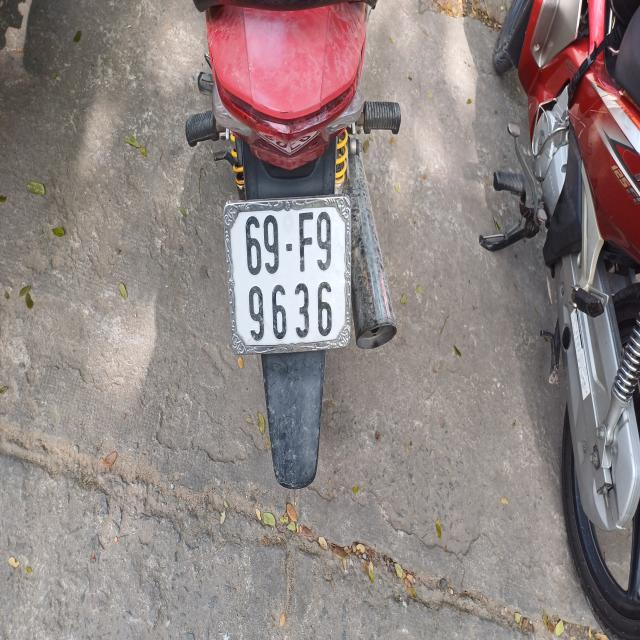3: (294, 282, 310, 340)
6: (246, 215, 262, 277), (317, 278, 332, 339), (272, 282, 286, 341)
9: (263, 212, 280, 276), (316, 209, 332, 273), (249, 286, 265, 344)
F: (298, 210, 312, 273)
